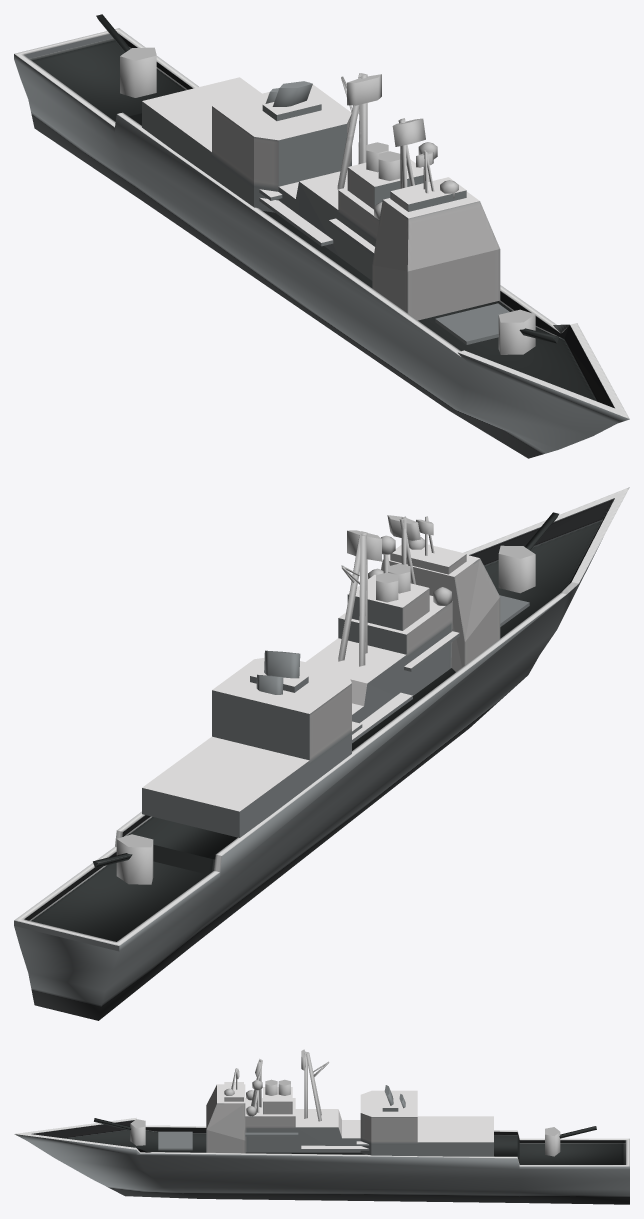
The model's file is Aegis.DAE.
The picture shows the model from 3 angles, top to bottom: view 1: azimuth 30°, elevation 25°; view 2: azimuth 150°, elevation 25°; view 3: azimuth 270°, elevation 25°; orthographic projection. The views are drawn at different scales.
Visible parts, largest first — view 1: ov3d_Aegis; view 2: ov3d_Aegis; view 3: ov3d_Aegis.
Boxes of the visible parts, box(x1,y1,x2,y2) form: ov3d_Aegis: box(14, 14, 629, 458); ov3d_Aegis: box(14, 487, 629, 1020); ov3d_Aegis: box(14, 1049, 629, 1204).
Bounding box in the file's own units: 496 × 1041 × 4036.
1 material, 1 textured.
